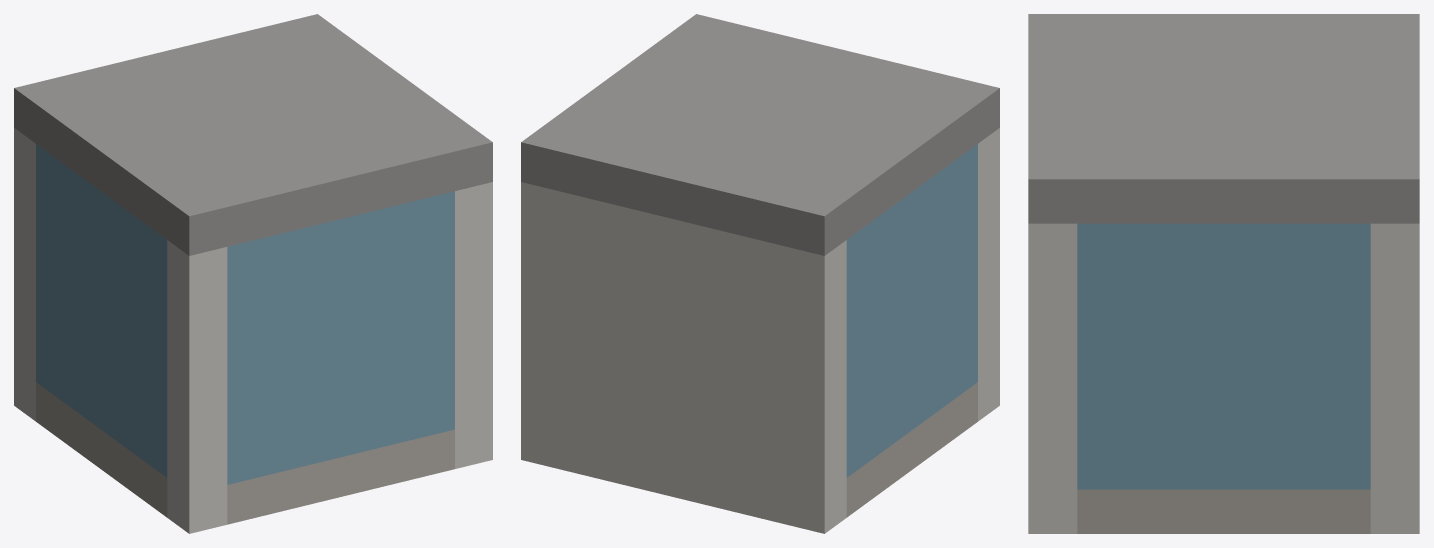
Rendered from flooded-tee.glb.
3 views of the same model, side by side, from view 1: azimuth 30°, elevation 25°; view 2: azimuth 150°, elevation 25°; view 3: azimuth 270°, elevation 25° (orthographic). The views are drawn at different scales.
Visible parts, largest first — view 1: ceiling_1, water_2, water_1, wall_2, wall_3, floor_2, wall_1, floor_1; view 2: wall_1, ceiling_1, water_1, wall_2, floor_1; view 3: ceiling_1, water_1, wall_1, wall_3, floor_1.
Boxes of the visible parts, bbox=[...] form: ceiling_1: bbox=[14, 14, 492, 255]; water_2: bbox=[227, 191, 454, 484]; water_1: bbox=[36, 144, 167, 477]; wall_2: bbox=[167, 240, 227, 533]; wall_3: bbox=[455, 182, 492, 468]; floor_2: bbox=[227, 429, 454, 524]; wall_1: bbox=[14, 128, 35, 421]; floor_1: bbox=[36, 382, 167, 517]; wall_1: bbox=[521, 182, 846, 533]; ceiling_1: bbox=[521, 14, 999, 255]; water_1: bbox=[846, 144, 977, 477]; wall_2: bbox=[978, 128, 999, 421]; floor_1: bbox=[846, 382, 977, 517]; ceiling_1: bbox=[1028, 14, 1419, 223]; water_1: bbox=[1077, 223, 1370, 489]; wall_1: bbox=[1370, 223, 1419, 533]; wall_3: bbox=[1028, 223, 1077, 533]; floor_1: bbox=[1077, 489, 1370, 533].
Size of the model in its own units: 4 by 4 by 4.
